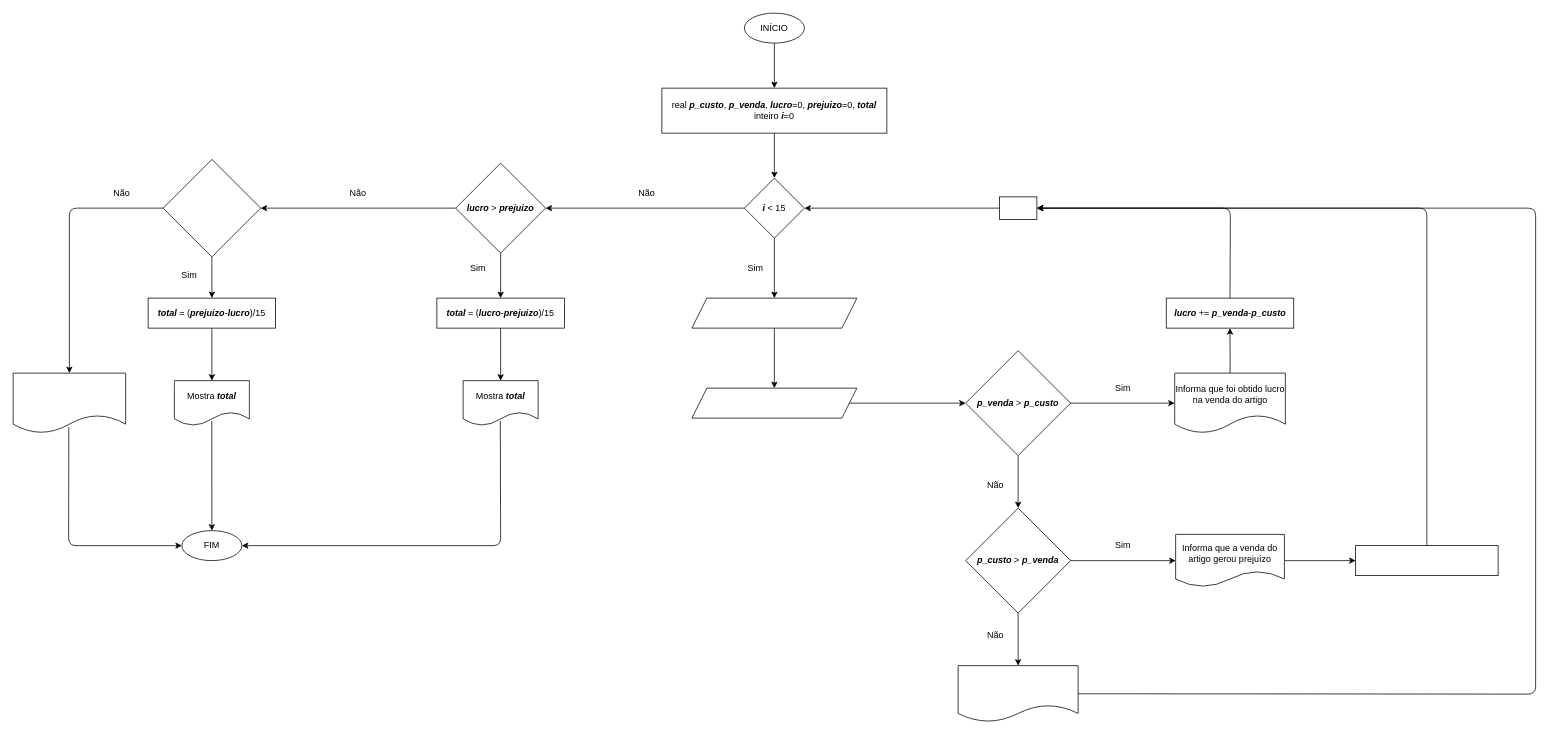
This 1555x735 diagram has some shape labels left out. Here are the shapes that lost their labels. From the top down, the box of each, then its label:
(162, 159, 261, 257): prejuizo > lucro
(999, 196, 1037, 219): i ++
(691, 297, 857, 328): Ler valor para variável p_custo
(12, 372, 126, 433): Informa que não houve lucro nem prejuízo
(691, 387, 857, 418): Ler valor para variável p_venda
(1355, 545, 1498, 576): prejuizo += p_custo - p_venda
(957, 665, 1078, 722): Informa que o artigo foi vendido ao preço de custo
